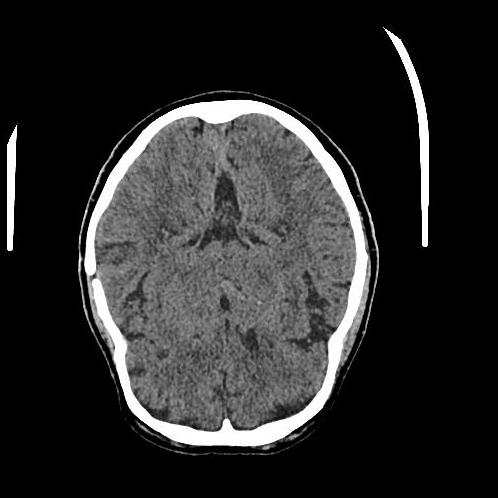Normal_Brain: (76, 99, 386, 454)
